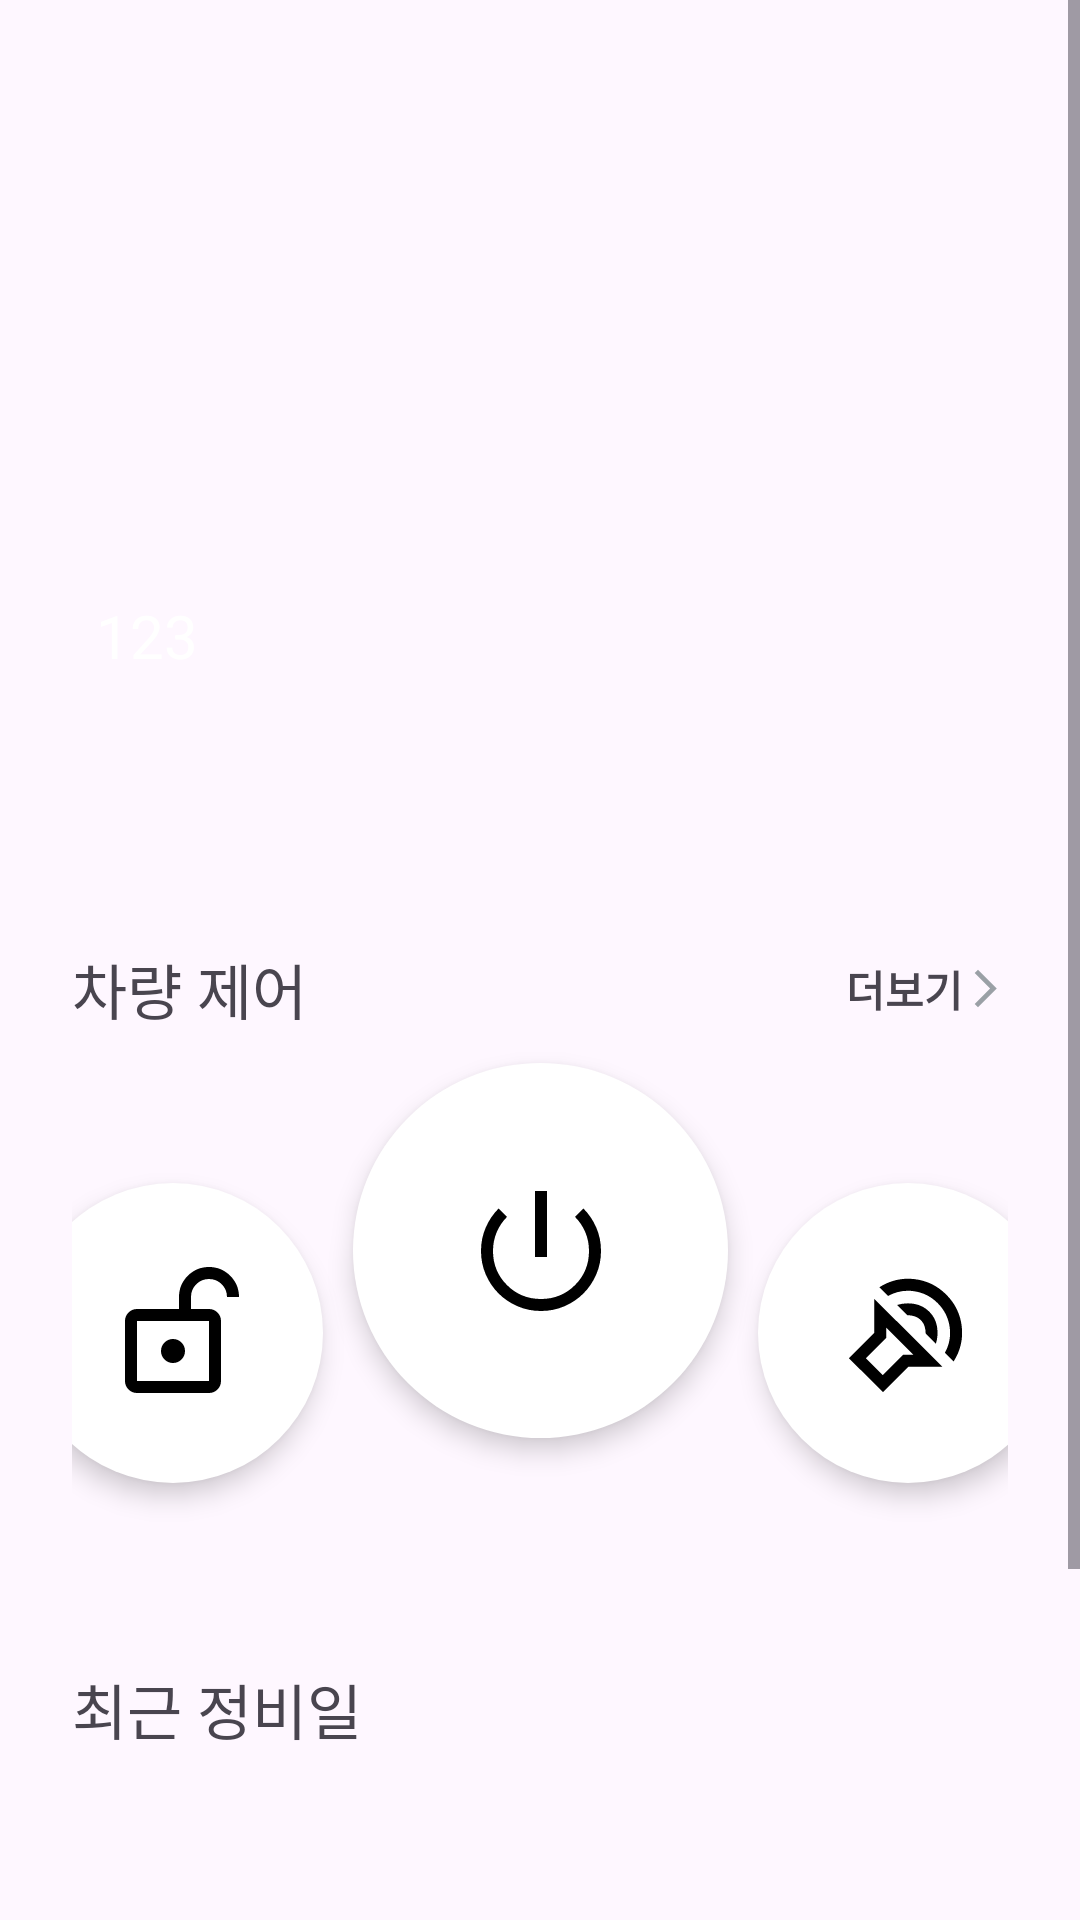

Icon click points for this 1080px x 1920px phone screenshot, format (x=x, y=y):
arrowfoward: (x=986, y=988)
